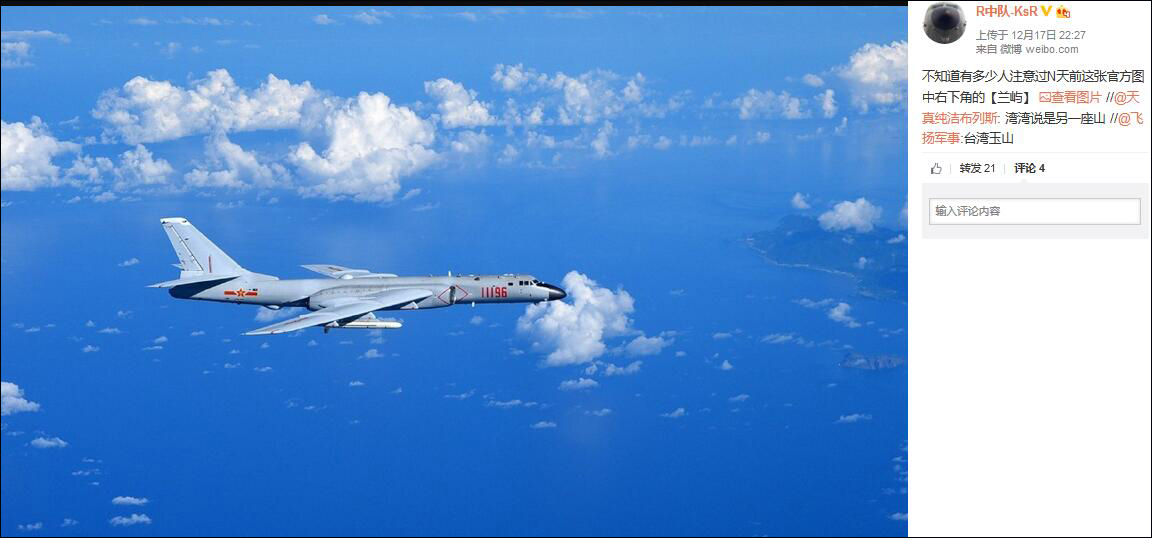airplane: (148, 201, 560, 340)
